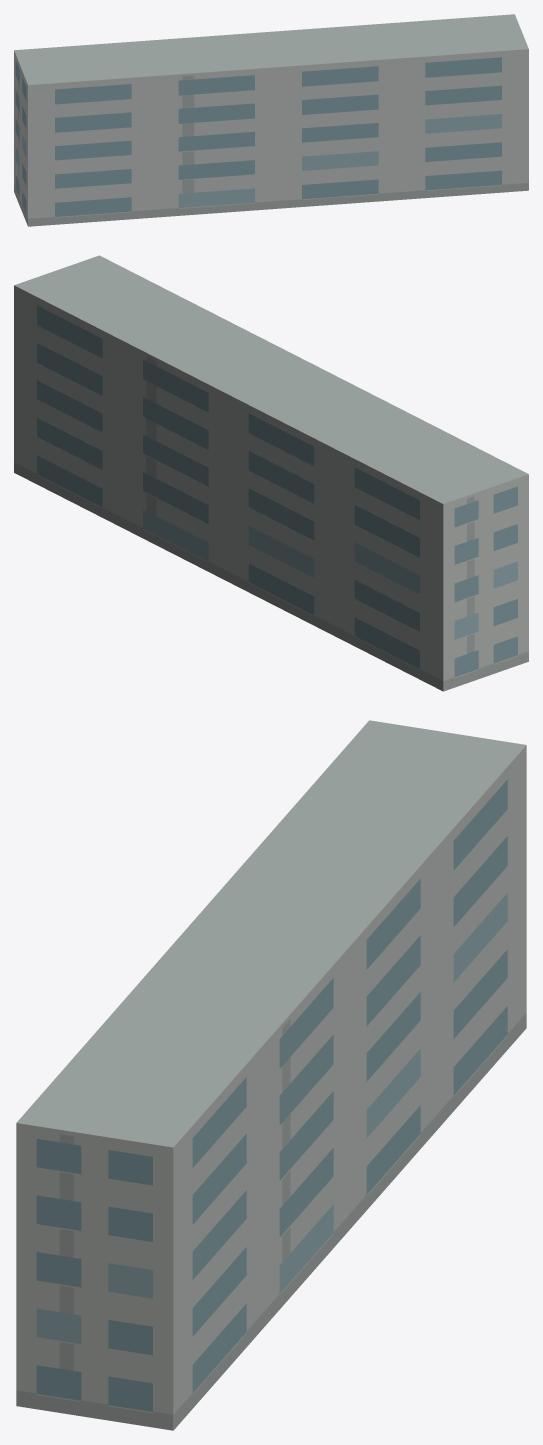
Rendered from residential-3fd1a89d-9830-43c3-94bd-97dda4c32352.glb.
3 views of the same model, one above another, from view 1: azimuth 30°, elevation 25°; view 2: azimuth 150°, elevation 25°; view 3: azimuth 270°, elevation 25° (orthographic). The views are drawn at different scales.
Parts seen in each view (by area): view 1: residential-3fd1a89d-9830-43c3-94bd-97dda4c32352.tmp; view 2: residential-3fd1a89d-9830-43c3-94bd-97dda4c32352.tmp; view 3: residential-3fd1a89d-9830-43c3-94bd-97dda4c32352.tmp.
Boxes of the visible parts, left/top/right/bottom form: residential-3fd1a89d-9830-43c3-94bd-97dda4c32352.tmp: left=14, top=14, right=528, bottom=226; residential-3fd1a89d-9830-43c3-94bd-97dda4c32352.tmp: left=14, top=255, right=528, bottom=691; residential-3fd1a89d-9830-43c3-94bd-97dda4c32352.tmp: left=16, top=720, right=526, bottom=1430.
Bounding box in the file's own units: 49.37 × 15.25 × 24.92.
